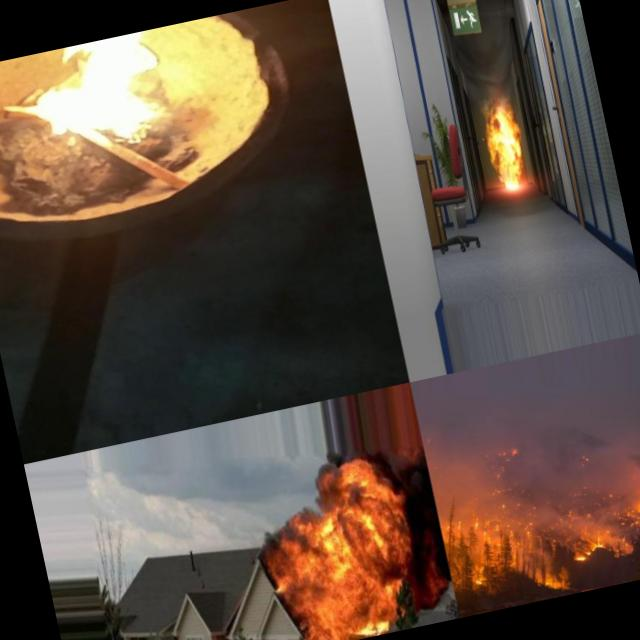fire: (21, 18, 226, 164), (282, 484, 423, 640), (443, 491, 640, 575), (470, 86, 532, 196), (526, 538, 637, 598), (309, 454, 390, 502), (264, 536, 306, 628), (450, 569, 486, 596)
smoke: (418, 369, 640, 539), (388, 448, 453, 595)
